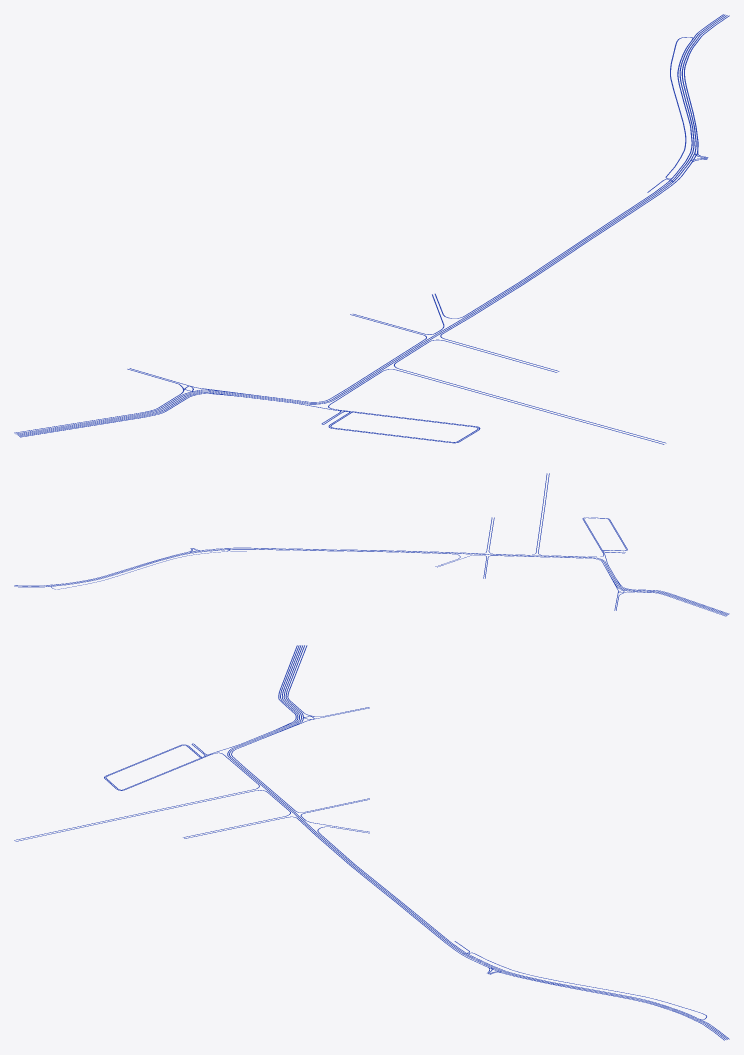
The model's file is L_KLB_TrafficLines.FBX.
The picture shows the model from 3 angles, top to bottom: view 1: azimuth 30°, elevation 25°; view 2: azimuth 150°, elevation 25°; view 3: azimuth 270°, elevation 25°; orthographic projection. The views are drawn at different scales.
Parts seen in each view (by area): view 1: L_KLB_TrafficLines; view 2: L_KLB_TrafficLines; view 3: L_KLB_TrafficLines.
Boxes of the visible parts, left/top/right/bottom form: L_KLB_TrafficLines: left=14, top=14, right=729, bottom=444; L_KLB_TrafficLines: left=14, top=473, right=729, bottom=616; L_KLB_TrafficLines: left=14, top=645, right=729, bottom=1040.
Size of the model in its own units: 1979 by 0.1535 by 1515.
